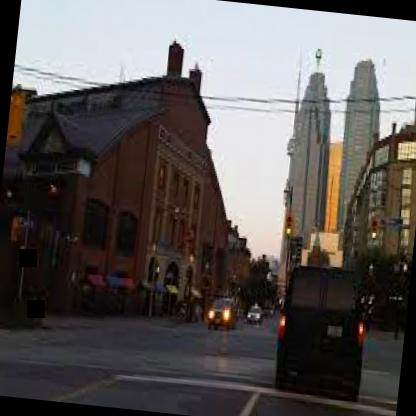car: (264, 252, 387, 407), (204, 284, 242, 332), (235, 286, 266, 324)
